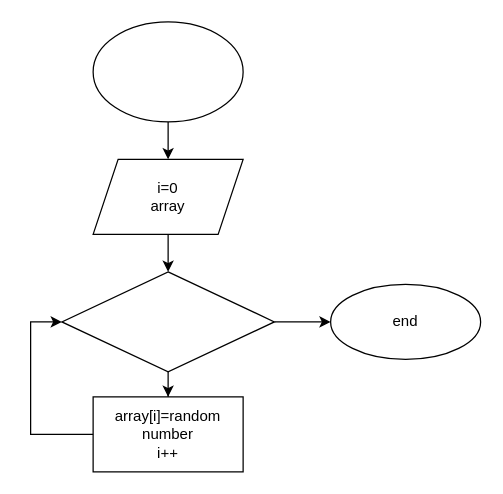
The diagram is 503 pixels wide and 494 high, and some of its shapes have lost their labels. Each missing label, with the centre of its shape:
i<8: (167,321)
start: (167,71)
